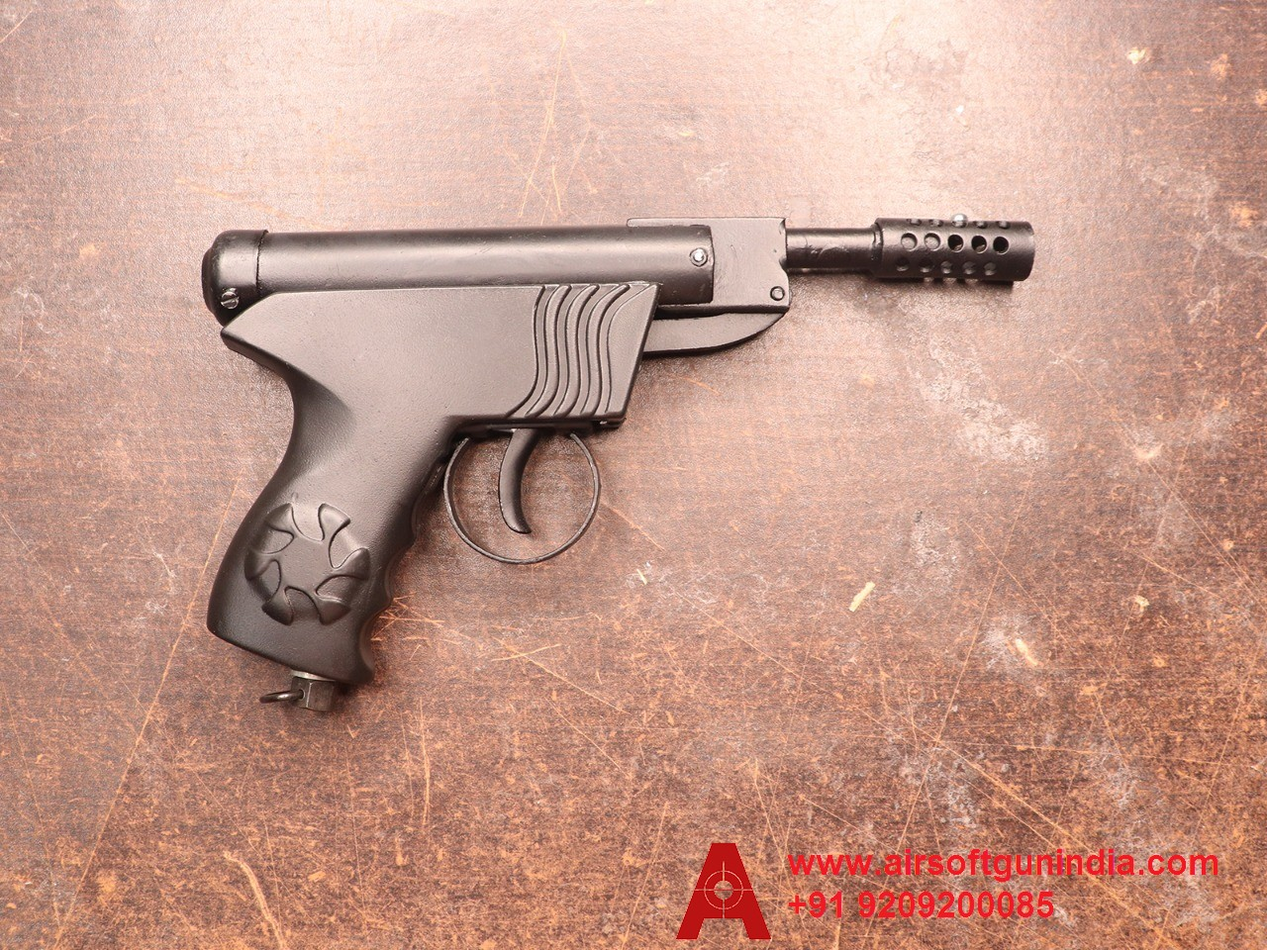GUN: (193, 209, 1051, 719)
